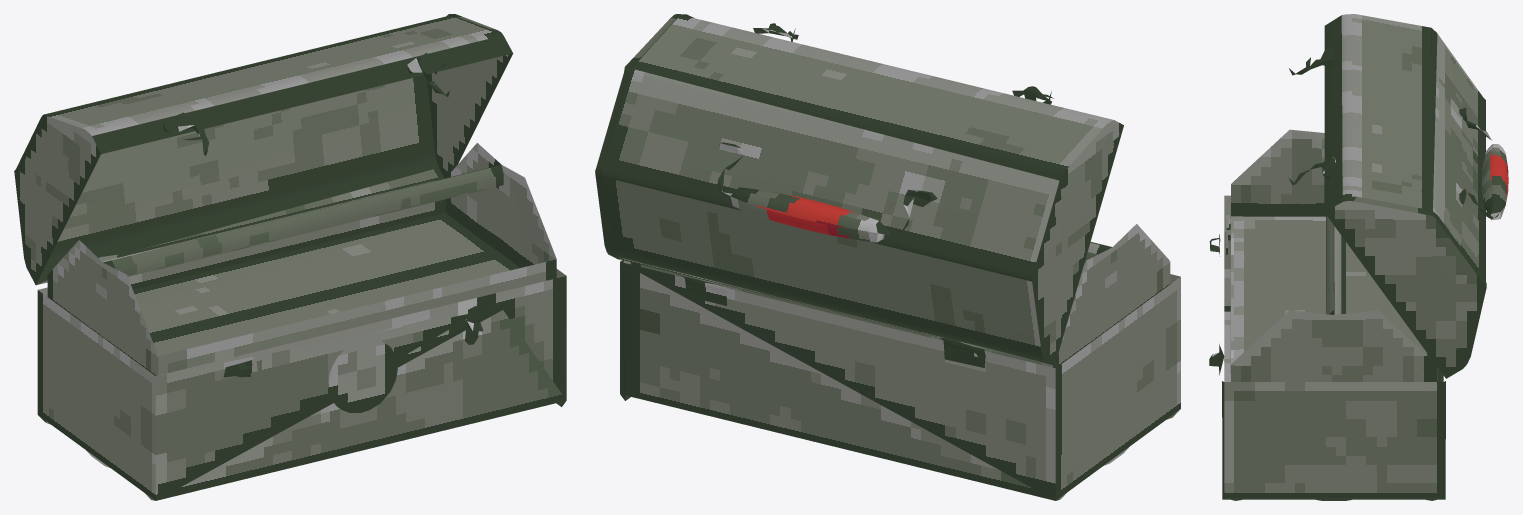
Rendered from metal_toolbox.glb.
The picture shows the model from 3 angles, left to right: view 1: azimuth 30°, elevation 25°; view 2: azimuth 150°, elevation 25°; view 3: azimuth 270°, elevation 25°; orthographic projection. The views are drawn at different scales.
Parts seen in each view (by area): view 1: mesh; view 2: mesh; view 3: mesh.
Part boxes in pixels (<box>): mesh: <box>14,14,566,500</box>; mesh: <box>595,14,1180,500</box>; mesh: <box>1209,14,1508,500</box>.
Bounding box in the file's own units: 0.4559 × 0.3471 × 0.307.
Materials: 1 (1 with a texture image).
